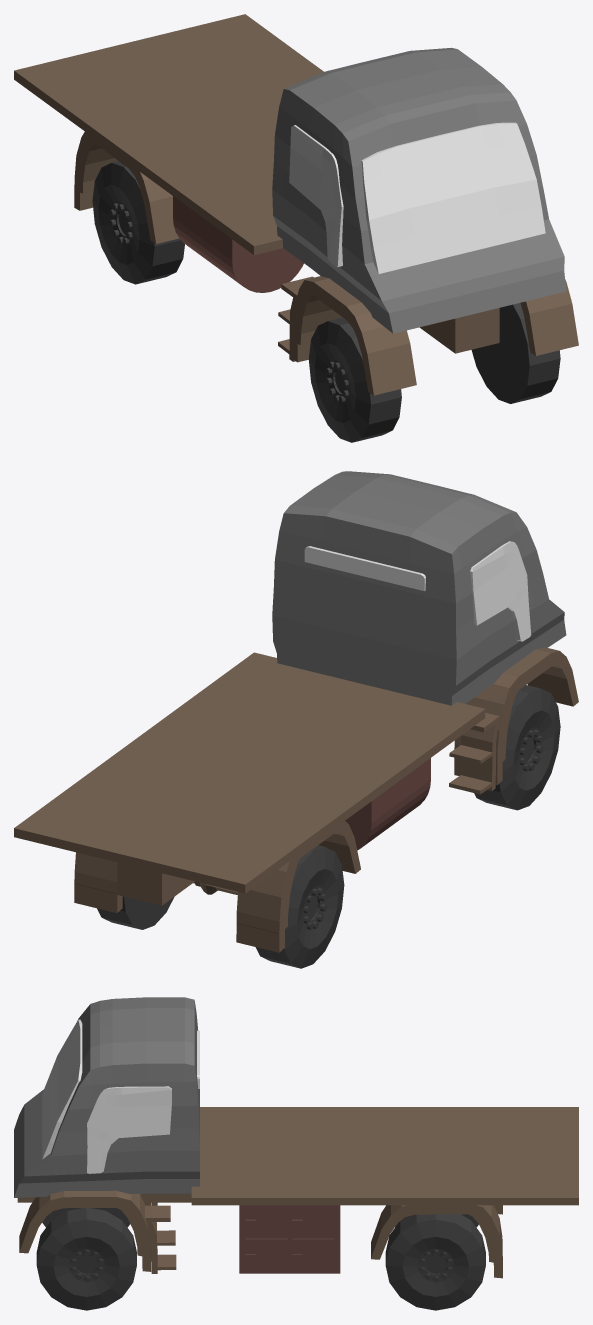
File: emptyVan.fbx
The picture shows the model from 3 angles, top to bottom: view 1: azimuth 30°, elevation 25°; view 2: azimuth 150°, elevation 25°; view 3: azimuth 270°, elevation 25°; orthographic projection. The views are drawn at different scales.
Parts seen in each view (by area): view 1: kabin, Cube.001, camlar, camurluk, onTekerler, arkaTekerler, Cylinder, sasi; view 2: Cube.001, kabin, camurluk, arkaTekerler, camlar, onTekerler, Cylinder, sasi; view 3: Cube.001, kabin, onTekerler, arkaTekerler, camurluk, camlar, Cube, sasi.
Boxes of the visible parts, box(x1,y1,x2,y2) form: kabin: box(272, 47, 566, 333); Cube.001: box(14, 14, 323, 255); camlar: box(289, 122, 545, 273); camurluk: box(74, 132, 578, 395); onTekerler: box(308, 303, 560, 442); arkaTekerler: box(92, 161, 184, 284); Cylinder: box(173, 196, 303, 292); sasi: box(419, 308, 499, 353); Cube.001: box(14, 652, 485, 893); kabin: box(272, 471, 566, 705); camurluk: box(74, 647, 578, 952); arkaTekerler: box(97, 845, 344, 968); camlar: box(304, 541, 531, 641); onTekerler: box(474, 685, 560, 810); Cylinder: box(345, 758, 430, 850); sasi: box(117, 862, 237, 905); Cube.001: box(191, 1107, 578, 1205); kabin: box(14, 997, 199, 1197); onTekerler: box(36, 1208, 136, 1310); arkaTekerler: box(385, 1214, 485, 1310); camurluk: box(19, 1190, 502, 1278); camlar: box(42, 1019, 199, 1173); Cube: box(239, 1205, 340, 1273); sasi: box(17, 1193, 191, 1202).
Size of the model in its own units: 786 by 382 by 300.
